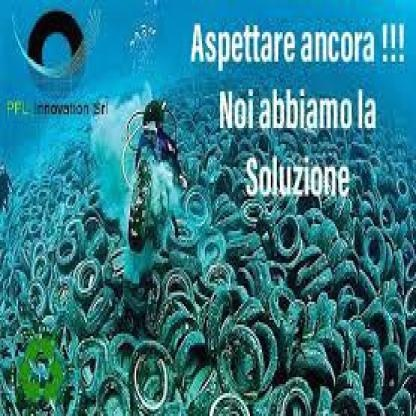tire: (111, 327, 184, 398), (202, 320, 274, 389), (50, 213, 110, 281), (265, 217, 302, 272)
